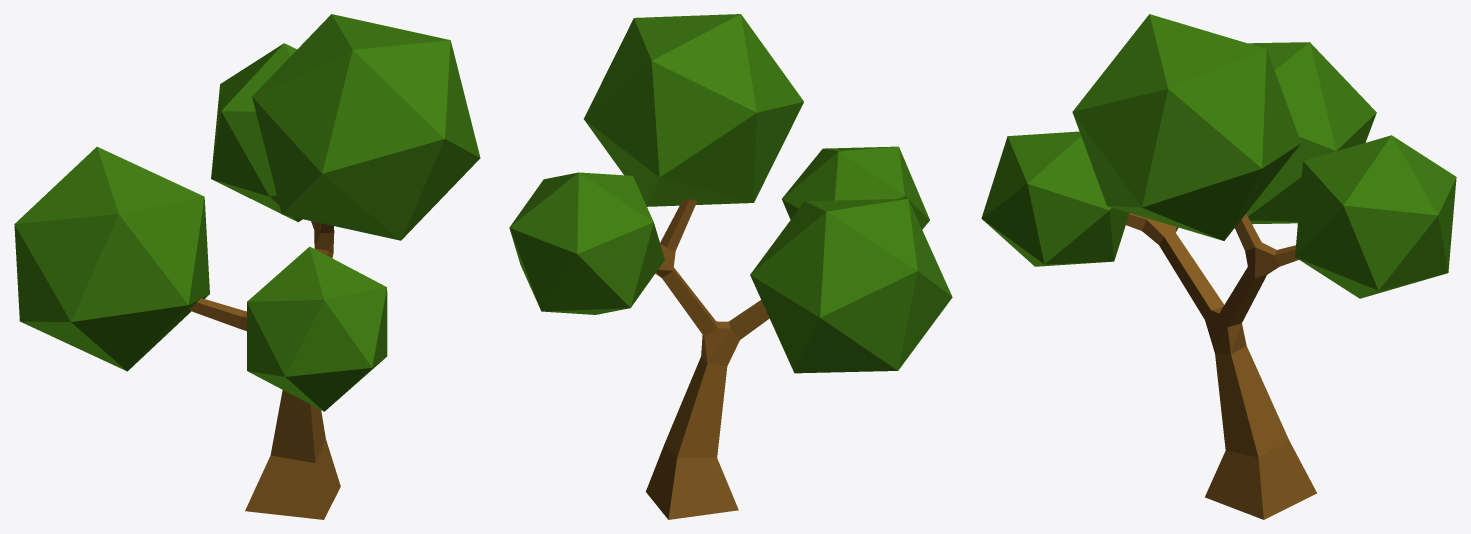
The model's file is tree.glb.
3 renders of one model, left to right at view 1: azimuth 30°, elevation 25°; view 2: azimuth 150°, elevation 25°; view 3: azimuth 270°, elevation 25°, orthographic. The views are drawn at different scales.
Visible parts, largest first — view 1: Icosphere.001, Icosphere.003, Icosphere.002, Cube, Icosphere; view 2: Icosphere.001, Icosphere.003, Icosphere, Cube, Icosphere.002; view 3: Icosphere.001, Icosphere, Cube, Icosphere.002, Icosphere.003.
Part boxes in pixels (<box>): Icosphere.001: <box>252,14,480,240</box>; Icosphere.003: <box>14,146,209,371</box>; Icosphere.002: <box>247,246,387,411</box>; Cube: <box>189,221,340,519</box>; Icosphere: <box>211,43,302,222</box>; Icosphere.001: <box>584,14,803,206</box>; Icosphere.003: <box>750,199,952,373</box>; Icosphere: <box>509,172,664,314</box>; Cube: <box>645,199,769,519</box>; Icosphere.002: <box>782,146,929,229</box>; Icosphere.001: <box>1072,14,1300,240</box>; Icosphere: <box>1295,135,1456,298</box>; Cube: <box>1126,213,1316,519</box>; Icosphere.002: <box>981,131,1129,266</box>; Icosphere.003: <box>1246,42,1376,224</box>.
Bounding box in the file's own units: 1.15 × 1.38 × 1.23.
